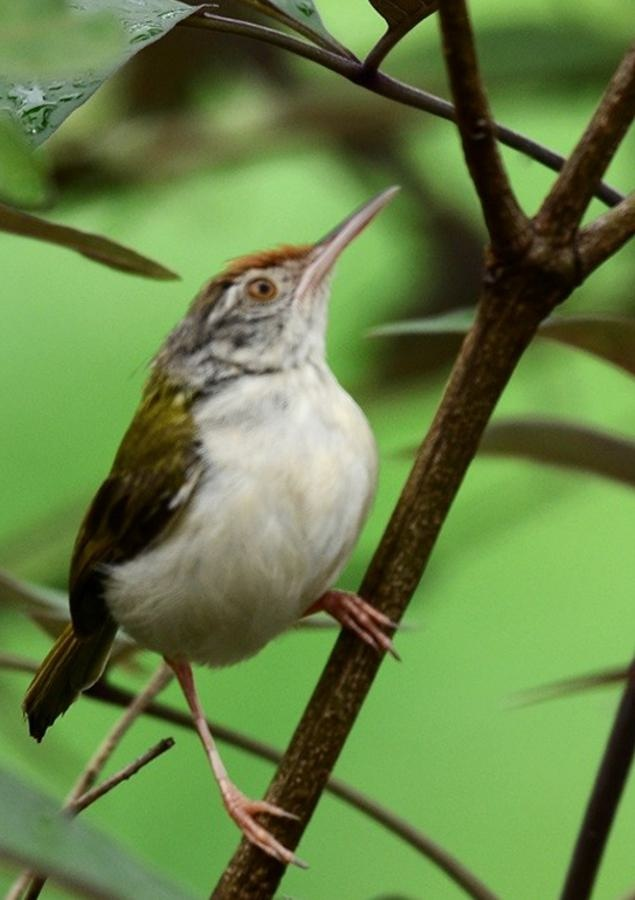tailorbird: (37, 174, 432, 864)
